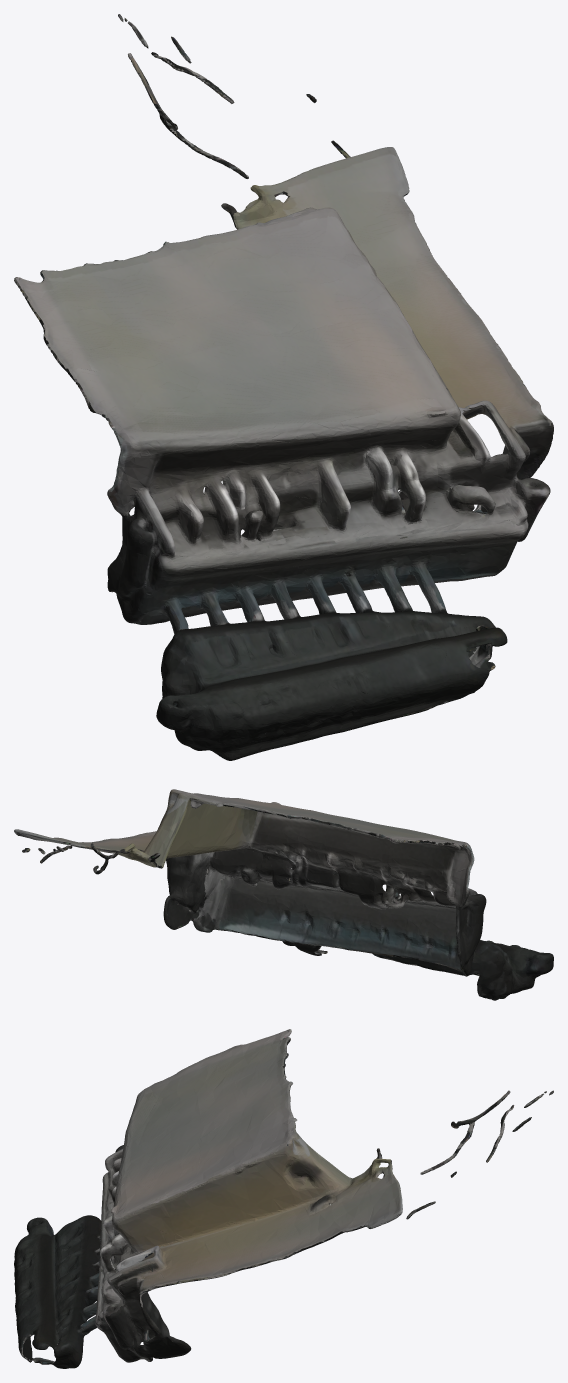
The model's file is plug_in_3D.glb.
The picture shows the model from 3 angles, top to bottom: view 1: azimuth 30°, elevation 25°; view 2: azimuth 150°, elevation 25°; view 3: azimuth 270°, elevation 25°; orthographic projection. The views are drawn at different scales.
Visible parts, largest first — view 1: world; view 2: world; view 3: world.
Part boxes in pixels (<box>): world: <box>14,14,553,760</box>; world: <box>14,789,553,1000</box>; world: <box>14,1029,553,1368</box>.
Size of the model in its own units: 1.45 by 1.14 by 1.97.
Materials: 1 (1 with a texture image).
